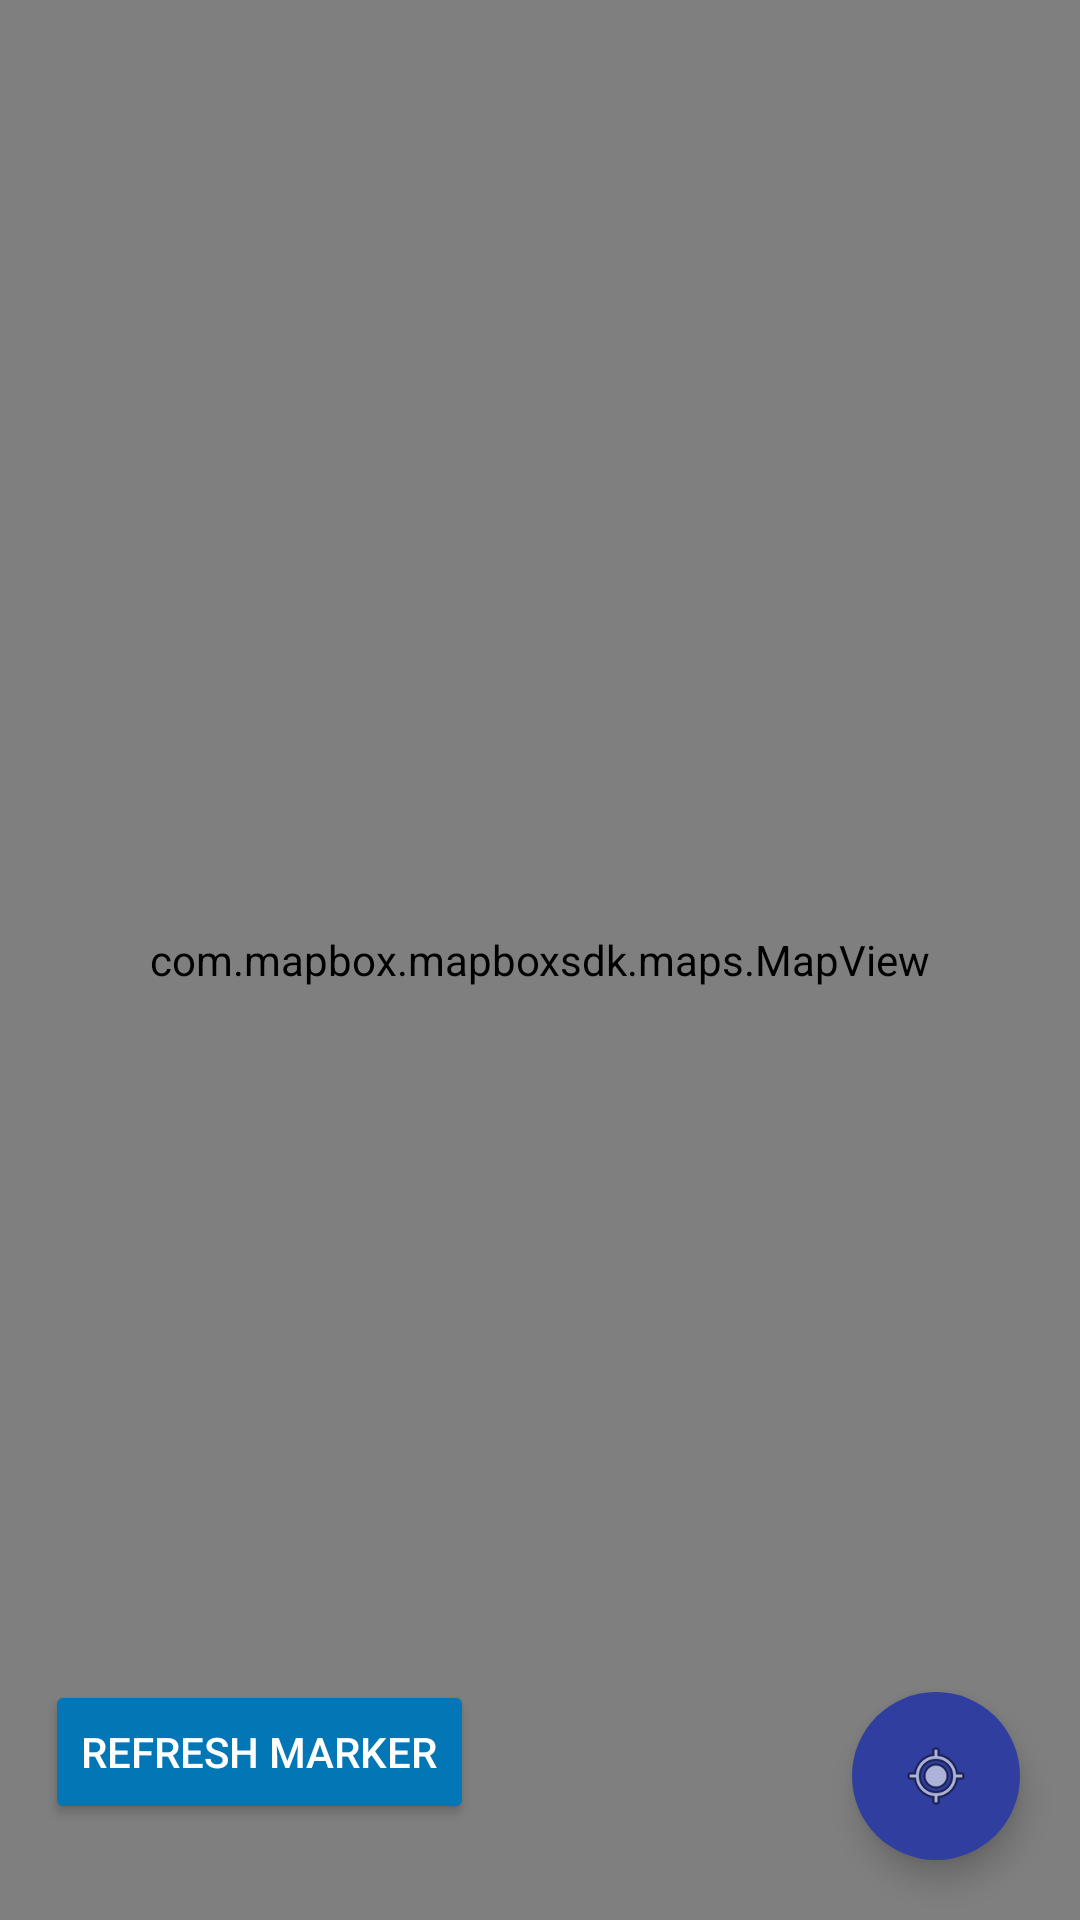

Named icons in this screenshot (1080px x 1920px) and their centers, (x,y):
mylocation: (936,1776)
